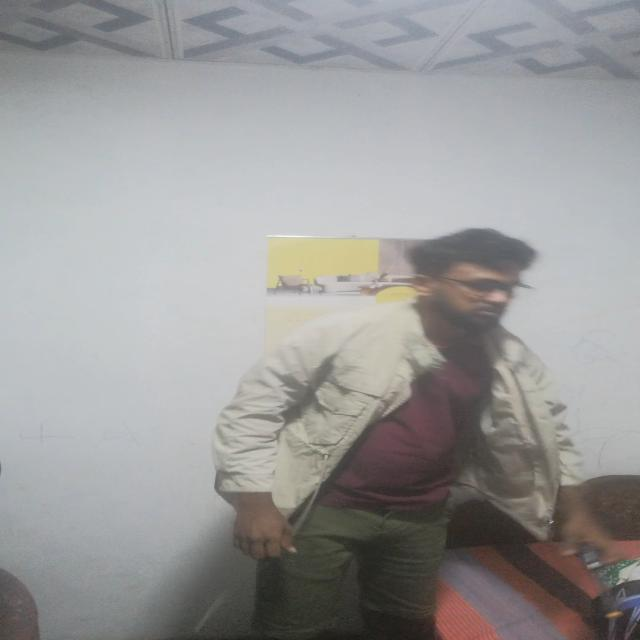Jacket_Wearer: (202, 307, 576, 531)
Person: (208, 231, 616, 640)
